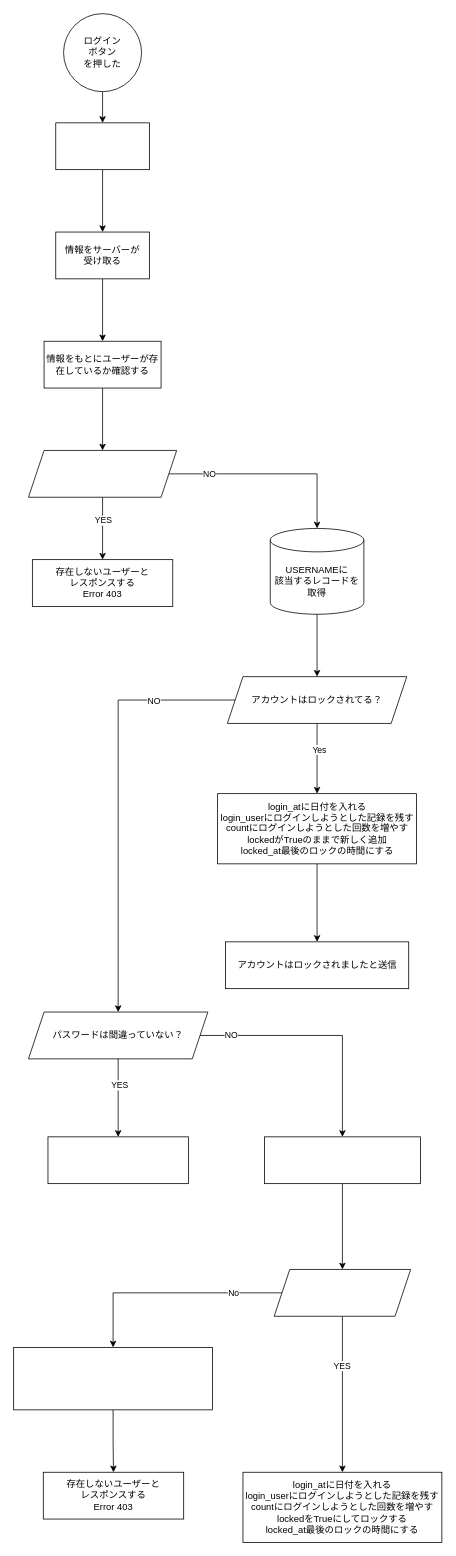
Image size: 456x1556. Some labels were removed from this diagram. The centre of each missing label's shape, as x and y in pixels:
"login_atに日付を入れる login_userにログインしようとした記録を残す countにログインしようとした回数を増やす" goes at point 113,1378.
"フォーム情報 を送信" goes at point 102,146.
"ログインさせる" goes at point 117,1160.
"一時間以内に 間違えるの12回目？" goes at point 342,1292.
"一時間以内に間違えるのは 何回目か計算" goes at point 342,1160.
"存在しない USERNAMEなのか？" goes at point 102,473.
